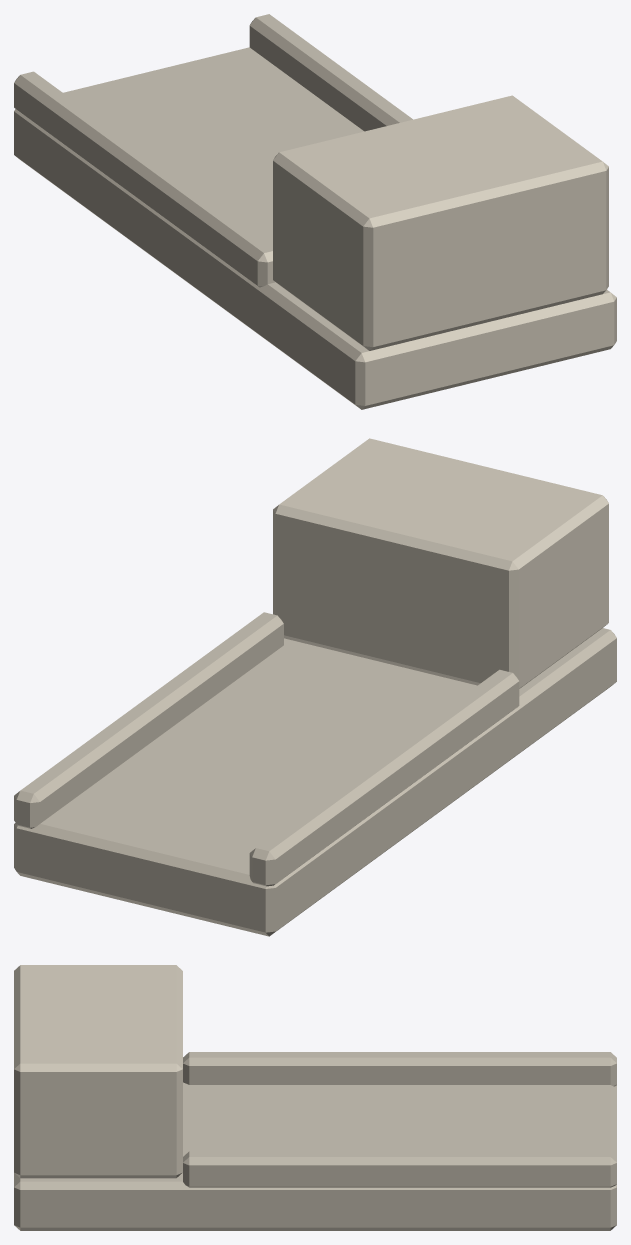
File: flatbed_hull_light.glb
The picture shows the model from 3 angles, top to bottom: view 1: azimuth 30°, elevation 25°; view 2: azimuth 150°, elevation 25°; view 3: azimuth 270°, elevation 25°; orthographic projection. The views are drawn at different scales.
Visible parts, largest first — view 1: flatbed_hull_light; view 2: flatbed_hull_light; view 3: flatbed_hull_light.
Part boxes in pixels (<box>): flatbed_hull_light: <box>14,14,616,409</box>; flatbed_hull_light: <box>14,438,616,936</box>; flatbed_hull_light: <box>14,965,616,1230</box>.
Bounding box in the file's own units: 2.6 × 1.8 × 6.
